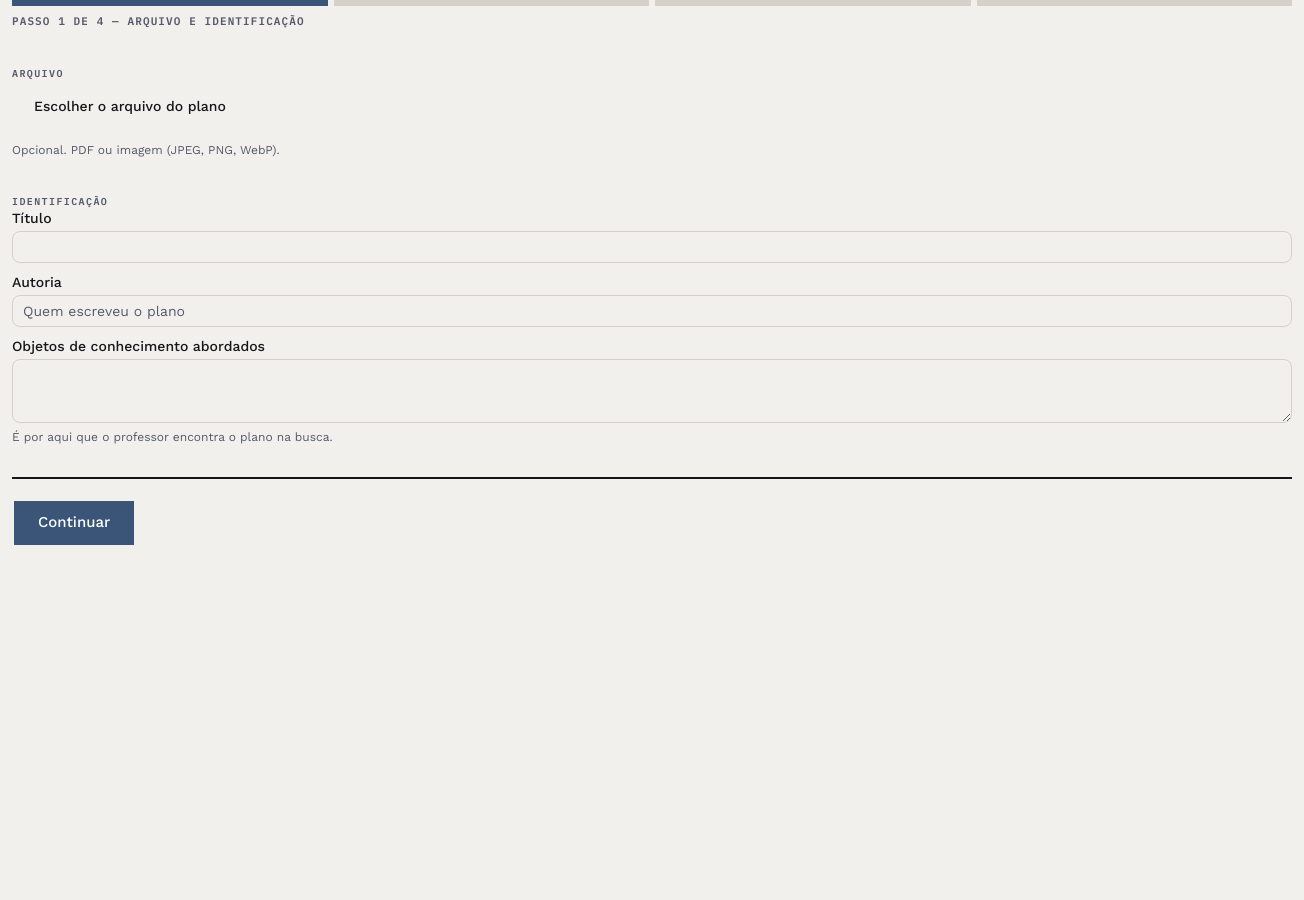
Test: FormularioCatalogar › "Continuar" com campo obrigatório vazio não avança e mostra o erro
Click the button "Continuar".
click(74, 522)  # box [12,498,136,546]
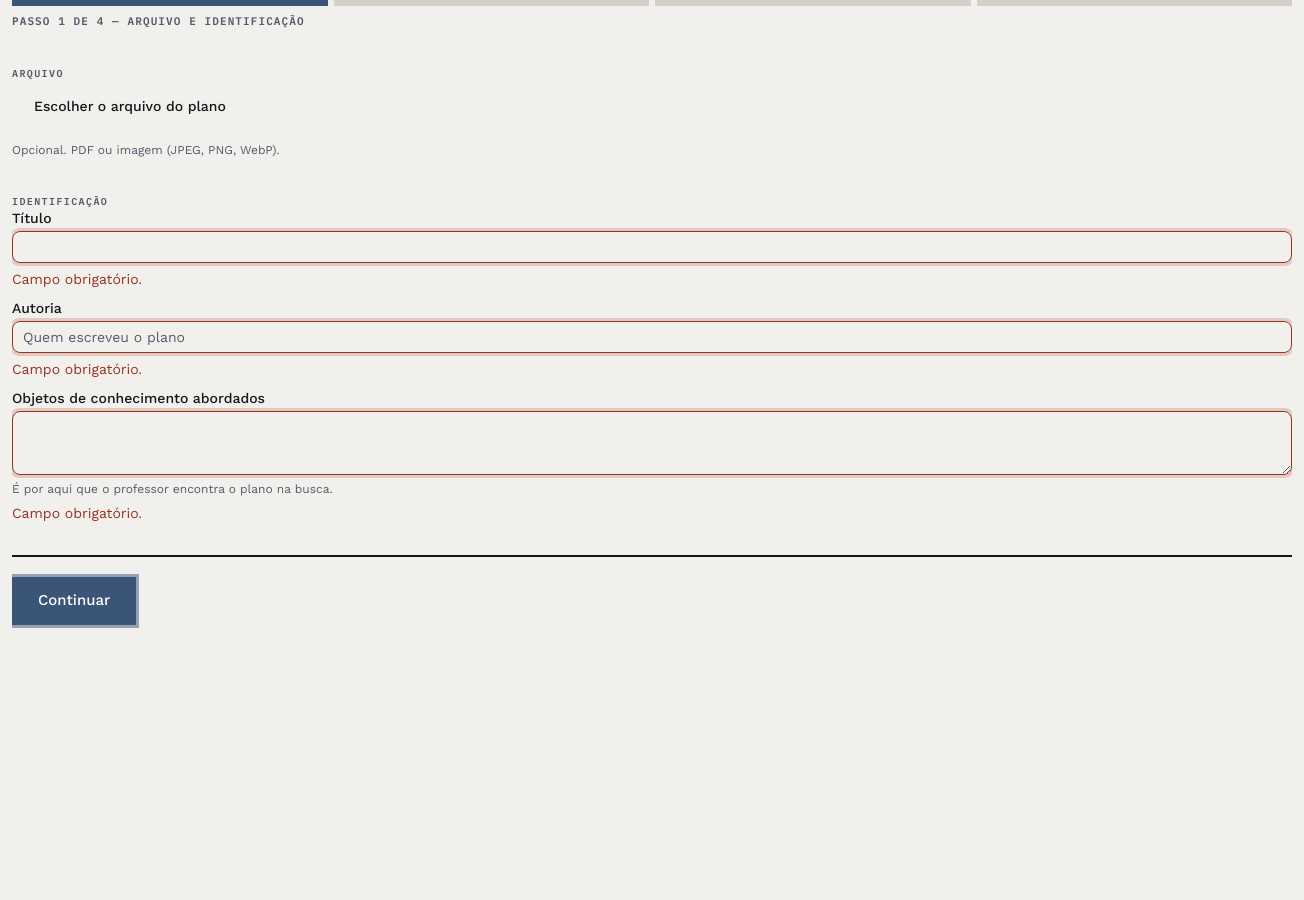
Expected: the text "Passo 1 de 4 — Arquivo e identificação" is shown, [12,14,305,28]
Expected: the text "Campo obrigatório." is shown 3 times, [12,270,142,286]; [12,360,142,376]; [12,504,142,520]
